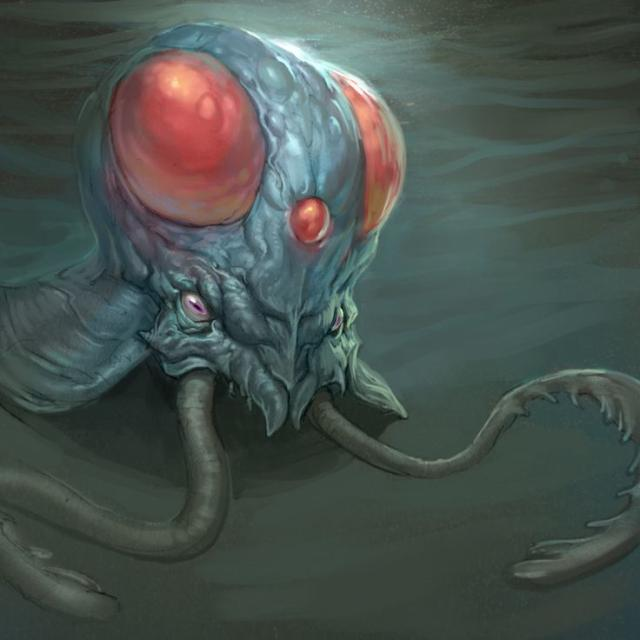Tentacool: (51, 19, 420, 500)
